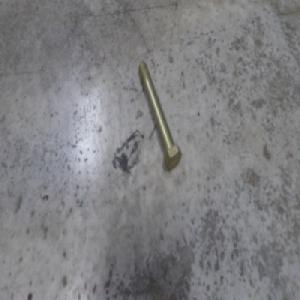Bolt: (139, 59, 182, 173)
